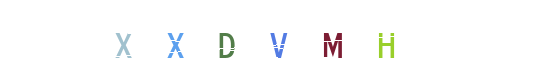D: (203, 0, 283, 80)
H: (346, 0, 426, 80)
M: (293, 0, 373, 80)
V: (230, 0, 310, 80)
X: (165, 0, 245, 80), (188, 0, 268, 80)
